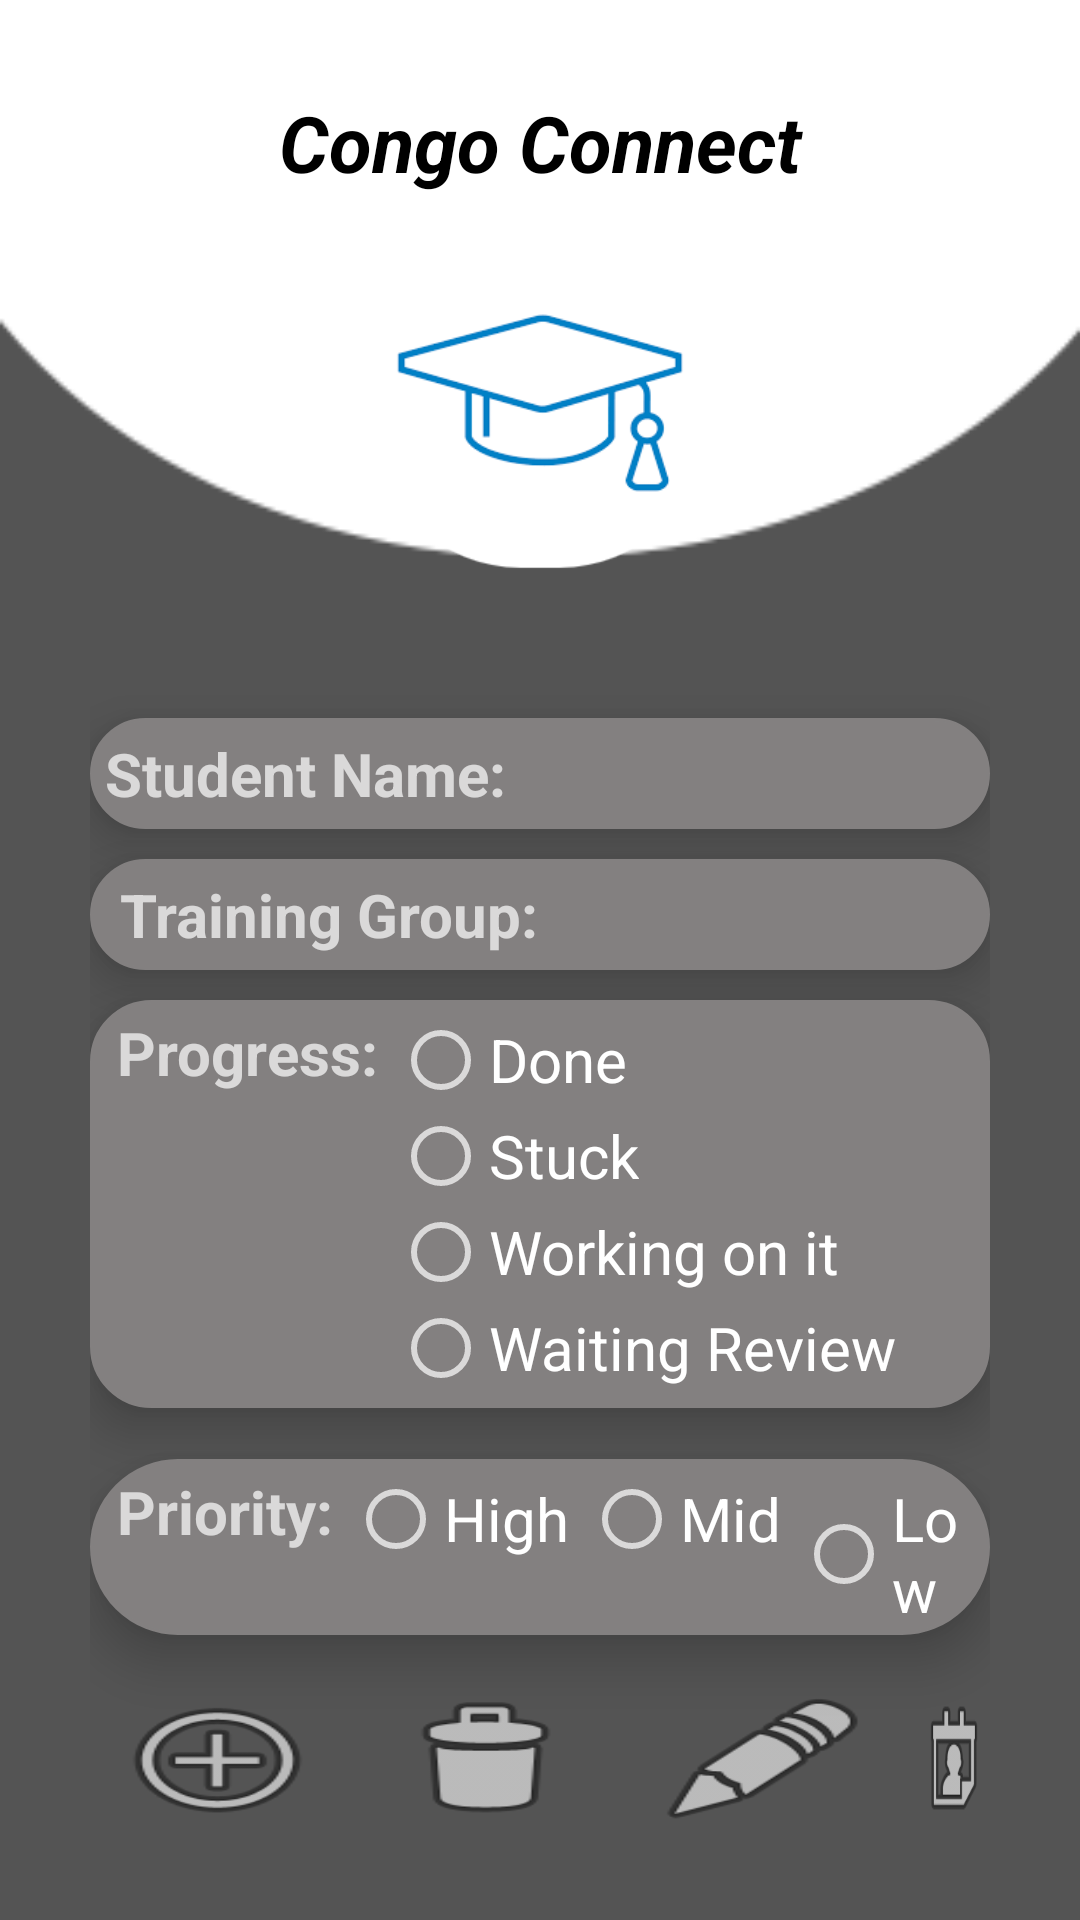

Locate icon controls on the screen. Image size 1080w x 1920h, boxes as (x1, y1, x2, y2).
add: (136, 1709, 299, 1812)
delete: (424, 1703, 548, 1811)
edit: (669, 1700, 857, 1817)
